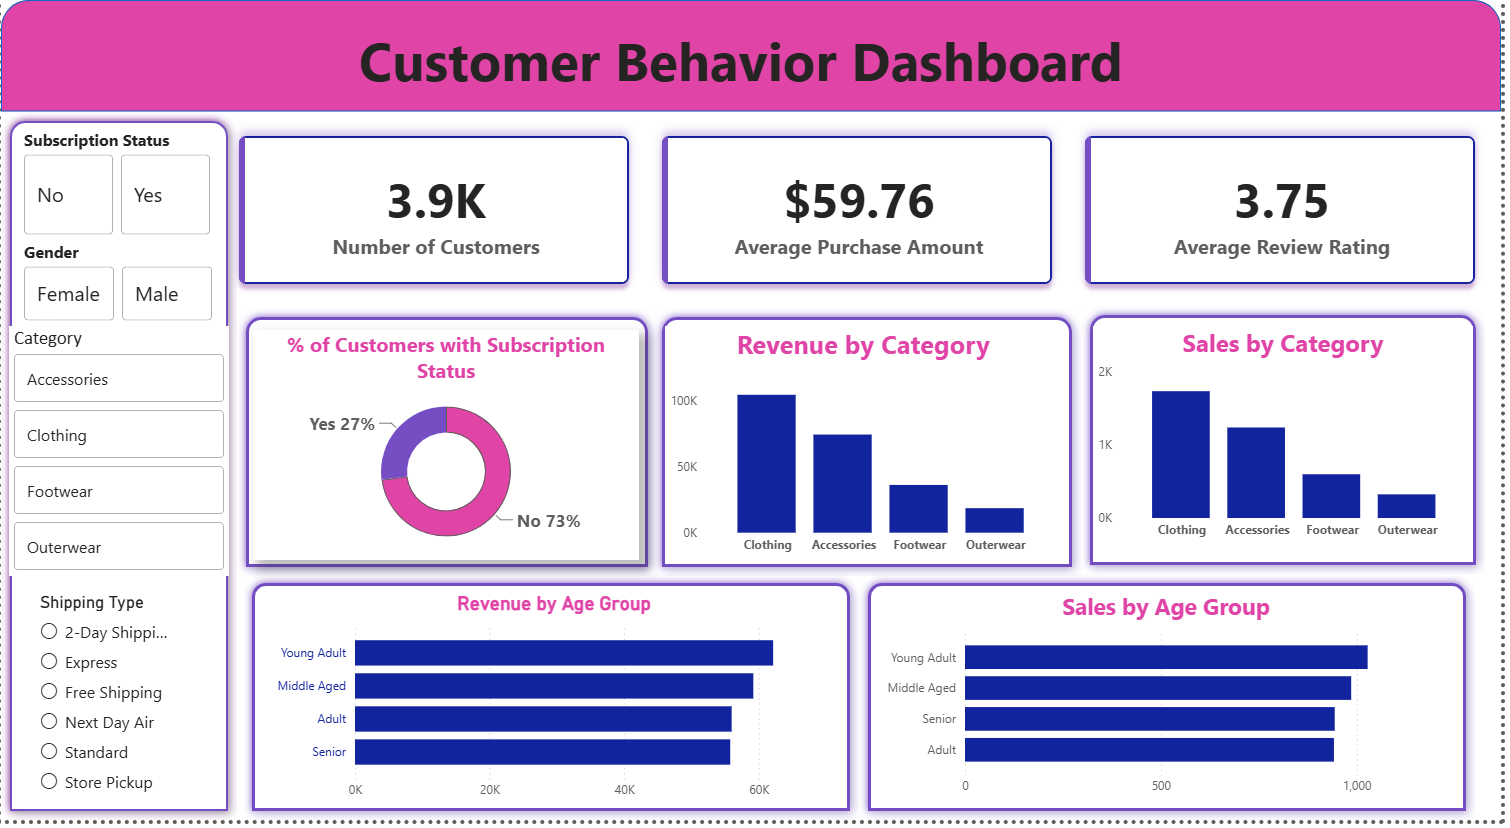

This screenshot's page, from the dashboard's own definition file:
{"tool":"powerbi","page":{"name":"Page 1","canvas":[1500,820],"ordinal":0},"visuals":[{"type":"cardVisual","fields":{"Data":["public customer.Number of Customers","public customer.Average Purchase Amount","public customer.Average Review Rating"]},"box":[214,112,1286,196],"z":0},{"type":"shape","box":[0,0,1500,111.4],"z":1000},{"type":"textbox","box":[0,0,1424.3,150],"z":2000},{"type":"textbox","box":[63.3,393.3,1105,150],"z":3000},{"type":"shape","box":[236,308,420,268],"z":4000},{"type":"donutChart","title":"% of Customers with Subscription Status","fields":{"Category":["public customer.subscription_status"],"Y":["CountNonNull(public customer.customer_id)"]},"box":[252,330,386,230],"z":5000},{"type":"shape","box":[652,308,428,268],"z":6000},{"type":"shape","box":[1080,306,404,268],"z":7000},{"type":"clusteredColumnChart","title":"Revenue by Category","fields":{"Y":["Sum(public customer.purchase_amount)"],"Category":["public customer.category"]},"box":[663.3,326.7,396.7,236.7],"z":8000},{"type":"clusteredColumnChart","title":"Sales by Category","fields":{"Category":["public customer.category"],"Y":["Count(public customer.customer_id)"]},"box":[1092,326,380,222],"z":9000},{"type":"shape","box":[0,112,236,708],"z":10000},{"type":"advancedSlicerVisual","title":"Subscription Status","fields":{"Values":["public customer.subscription_status"]},"box":[18,128,196,112],"z":11000},{"type":"advancedSlicerVisual","title":"Gender","fields":{"Values":["public customer.gender"]},"box":[18,240,198,86],"z":12000},{"type":"advancedSlicerVisual","title":"   Category","fields":{"Values":["public customer.category"]},"box":[8,326,220,250],"z":13000},{"type":"listSlicer","title":"Shipping Type","fields":{"Values":["public customer.shipping_type"]},"box":[34,592,154,212],"z":14000},{"type":"shape","box":[858,574,616,246],"z":17000},{"type":"clusteredBarChart","title":"Sales by Age Group","fields":{"Category":["public customer.age_group"],"Y":["Count(public customer.customer_id)"]},"box":[876,590,578,214],"z":18000},{"type":"shape","box":[242,574,616,246],"z":18001},{"type":"clusteredBarChart","title":"    Revenue by Age Group","fields":{"Y":["Sum(public customer.purchase_amount)"],"Category":["public customer.age_group"]},"box":[266,592,574,216],"z":18002}]}

Visuals, with their boxes in screenshot pixels (x1, y1, x2, y2), scaled from the page's 1500x820 canvas onto the 1510x828 screenshot:
cardVisual - public customer.Number of Customers x public customer.Average Purchase Amount: select_region(215, 113, 1509, 311)
shape: select_region(0, 0, 1509, 112)
textbox: select_region(0, 0, 1434, 151)
textbox: select_region(64, 397, 1176, 549)
shape: select_region(238, 311, 660, 582)
"% of Customers with Subscription Status" donutChart: select_region(254, 333, 642, 565)
shape: select_region(656, 311, 1087, 582)
shape: select_region(1087, 309, 1494, 580)
"Revenue by Category" clusteredColumnChart: select_region(668, 330, 1067, 569)
"Sales by Category" clusteredColumnChart: select_region(1099, 329, 1482, 553)
shape: select_region(0, 113, 238, 827)
"Subscription Status" advancedSlicerVisual: select_region(18, 129, 215, 242)
"Gender" advancedSlicerVisual: select_region(18, 242, 217, 329)
"   Category" advancedSlicerVisual: select_region(8, 329, 230, 582)
"Shipping Type" listSlicer: select_region(34, 598, 189, 812)
shape: select_region(864, 580, 1484, 827)
"Sales by Age Group" clusteredBarChart: select_region(882, 596, 1464, 812)
shape: select_region(244, 580, 864, 827)
"    Revenue by Age Group" clusteredBarChart: select_region(268, 598, 846, 816)
